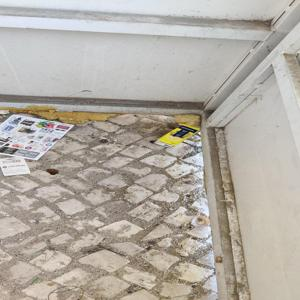cardboard: (151, 117, 205, 161)
paper: (1, 111, 73, 166), (1, 155, 45, 181)
